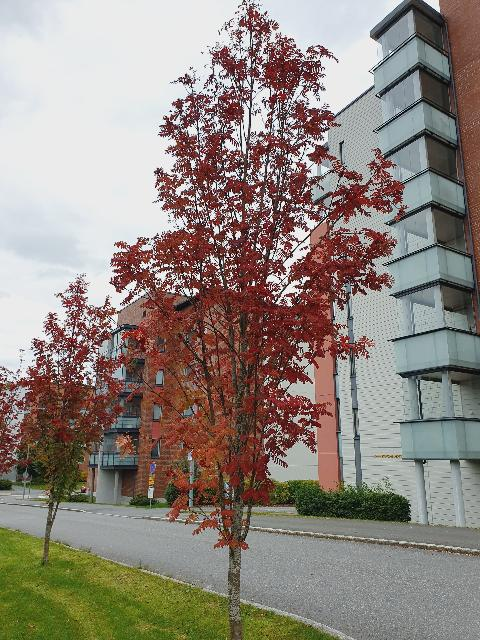rowan: (107, 0, 412, 640), (13, 271, 129, 569)
